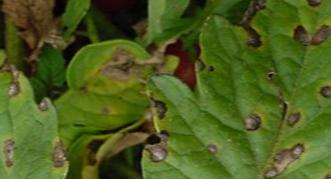Tomato Septoria leaf spot: (142, 0, 331, 179), (0, 39, 75, 179)
